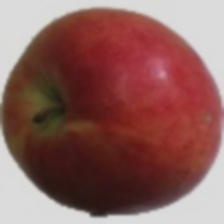apple: (32, 20, 190, 180)
